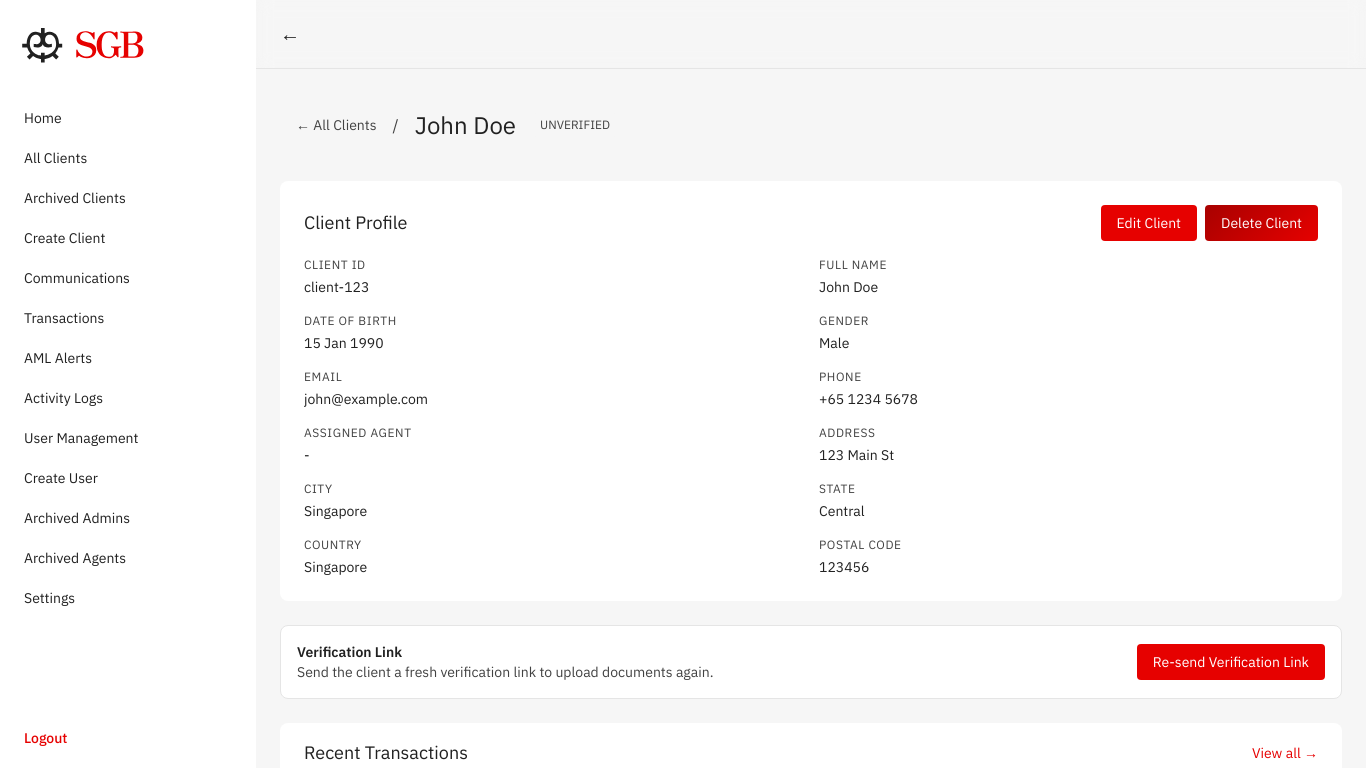
Test: ClientDetailPage (root admin role) › re-sends verification link for non-verified client
This screenshot has width=1366, height=768.
Click the button "Re-send Verification Link" at (1231, 662), box [1137,644,1325,680]
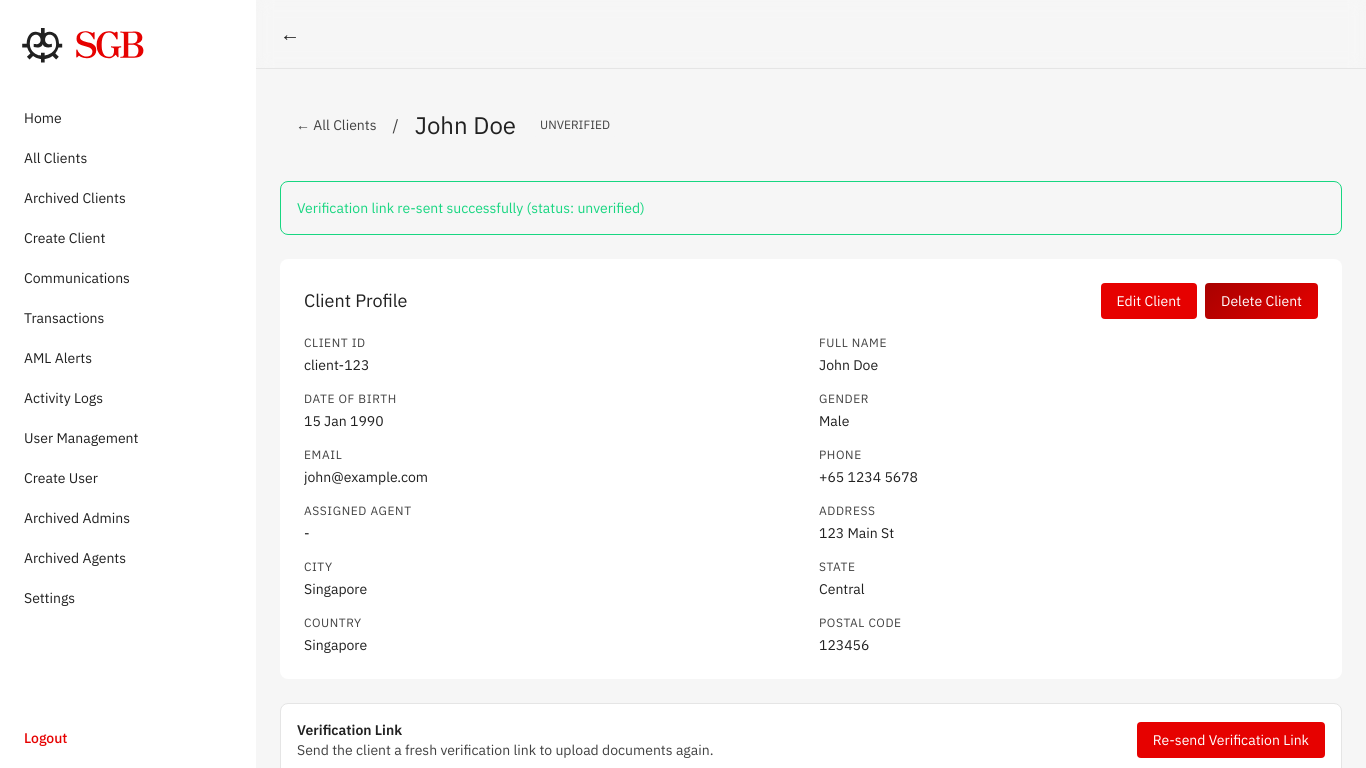
Check: the text "Verification link re-sent successfully (status: unverified)" is shown, box [297,199,645,217]
